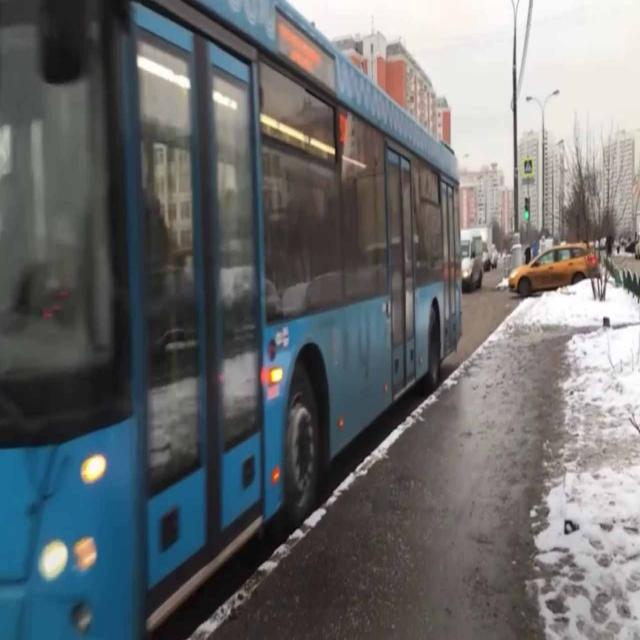bus: (0, 0, 464, 640)
